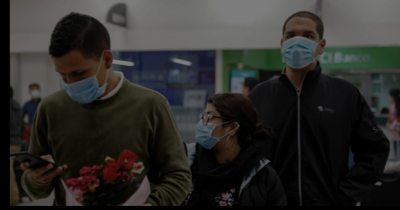with_mask: (54, 64, 105, 108), (280, 27, 320, 70), (194, 108, 231, 150), (29, 85, 39, 100)
